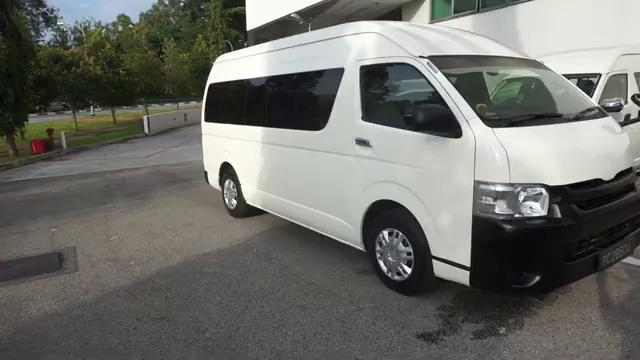Van: (196, 20, 640, 293)
